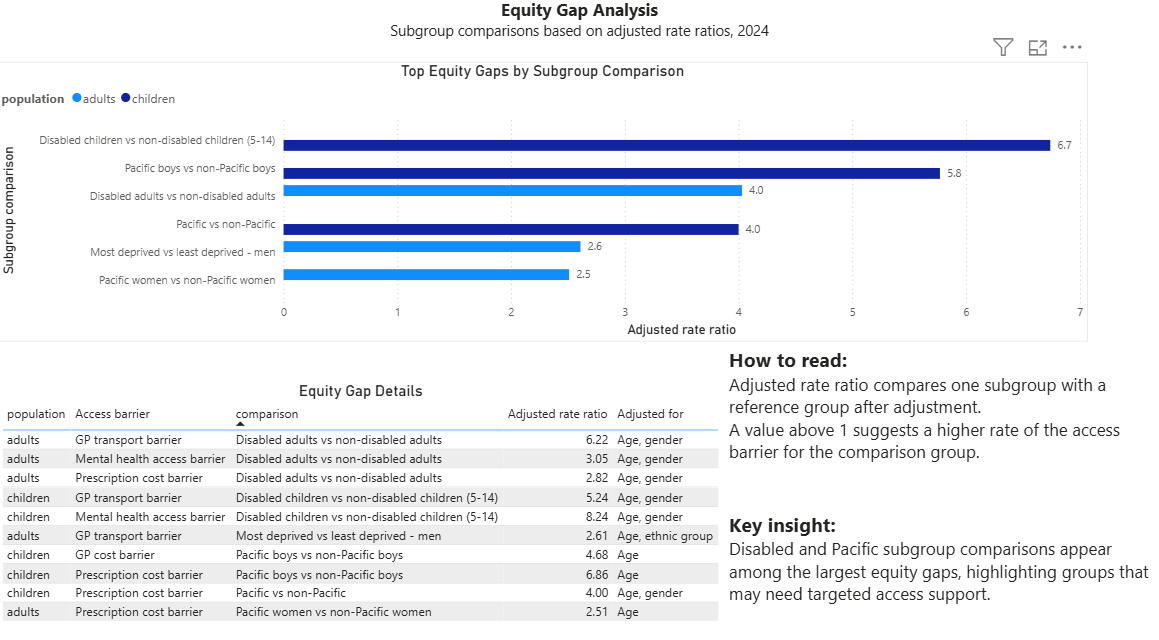

The dashboard page shown, as its layout file describes it:
{"tool":"powerbi","page":{"name":"Equity Gap Analysis","canvas":[1280,720],"ordinal":2},"visuals":[{"type":"textbox","box":[310.1,0,658.7,56.3],"z":0},{"type":"clusteredBarChart","title":"Top Equity Gaps by Subgroup Comparison","fields":{"Category":["vw_equity_gap.comparison"],"Y":["Avg(vw_equity_gap.adjusted_rate_ratio)"],"Series":["vw_equity_gap.population"]},"box":[0,75.5,1197.9,307.4],"z":1000},{"type":"tableEx","title":"Equity Gap Details","fields":{"Values":["vw_equity_gap.population","vw_equity_gap.indicator_short_name","vw_equity_gap.comparison","vw_equity_gap.adjusted_rate_ratio","vw_equity_gap.adjusted_for"]},"box":[0,426.8,798.6,275.8],"z":2000},{"type":"textbox","box":[798.6,382.8,481.6,319.7],"z":3000}]}

Visuals, with their boxes in screenshot pixels (x1, y1, x2, y2), scaled from the page's 1280x720 canvas onto the 1159x640 screenshot:
textbox: <box>281,0,877,50</box>
"Top Equity Gaps by Subgroup Comparison" clusteredBarChart: <box>0,67,1085,340</box>
"Equity Gap Details" tableEx: <box>0,379,723,625</box>
textbox: <box>723,340,1158,624</box>
